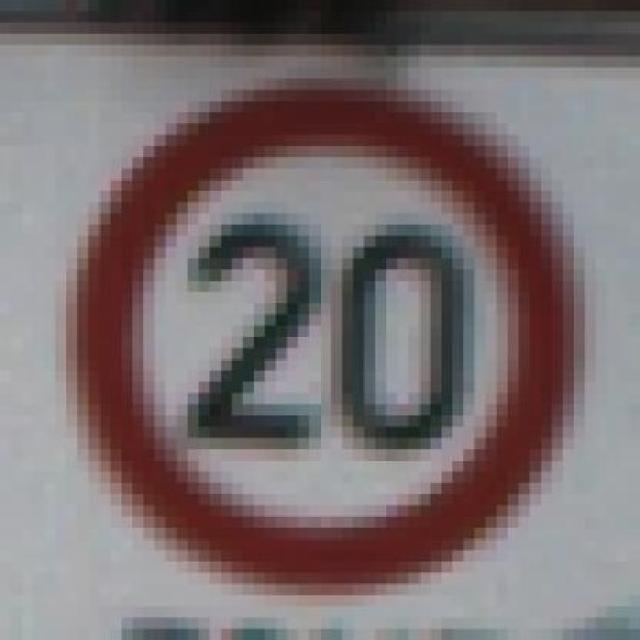forb_speed_over_20: (72, 83, 580, 592)
